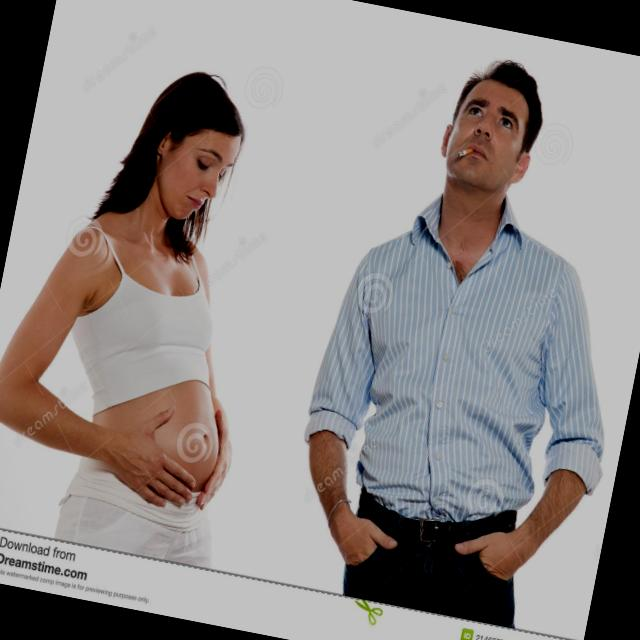smoke: (454, 136, 478, 166)
